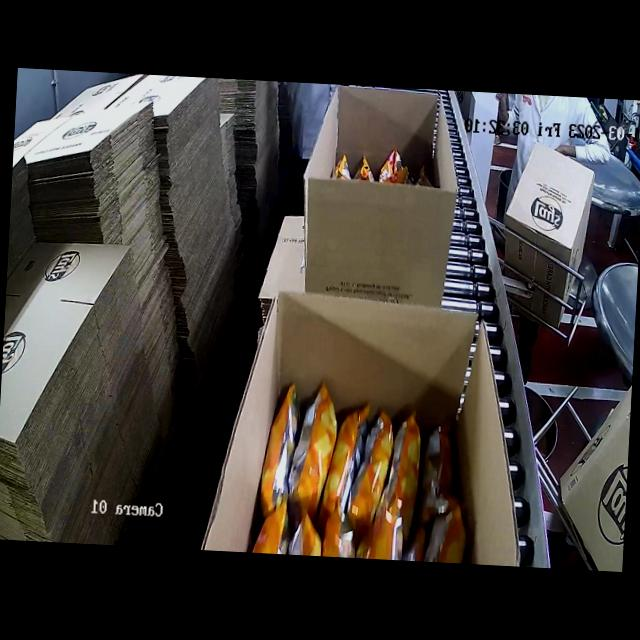cheese: (250, 394, 462, 563), (317, 146, 437, 196)
